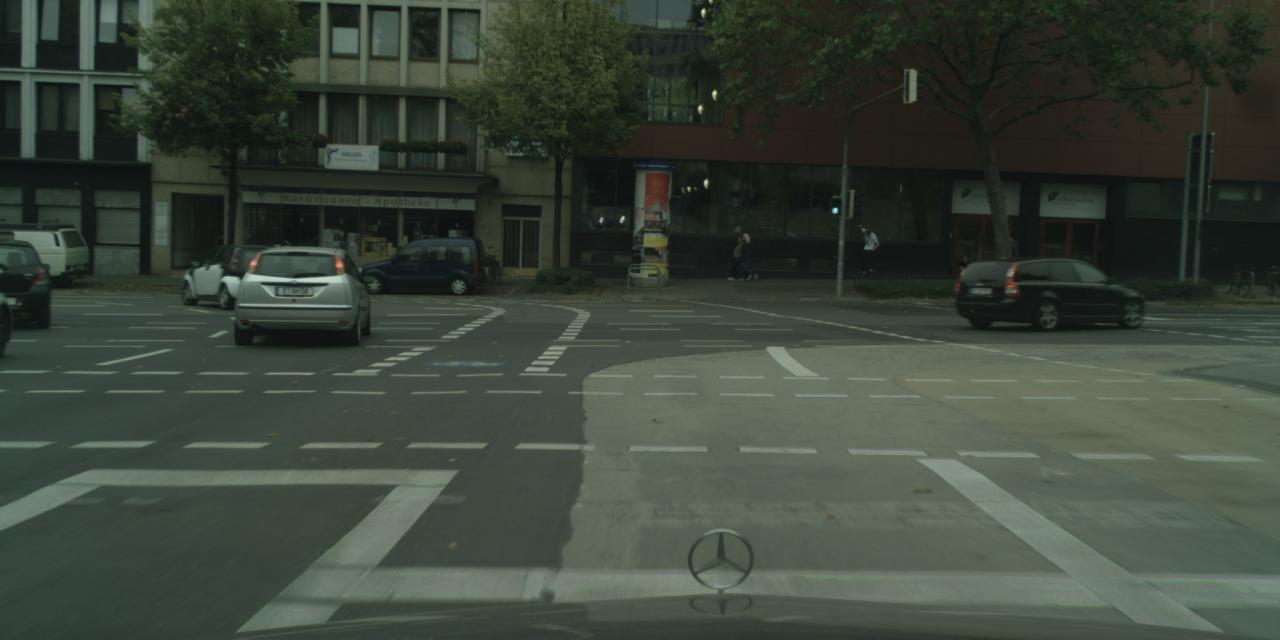ped: (999, 233, 1020, 284), (858, 226, 878, 274), (738, 232, 756, 280), (730, 235, 749, 280)
